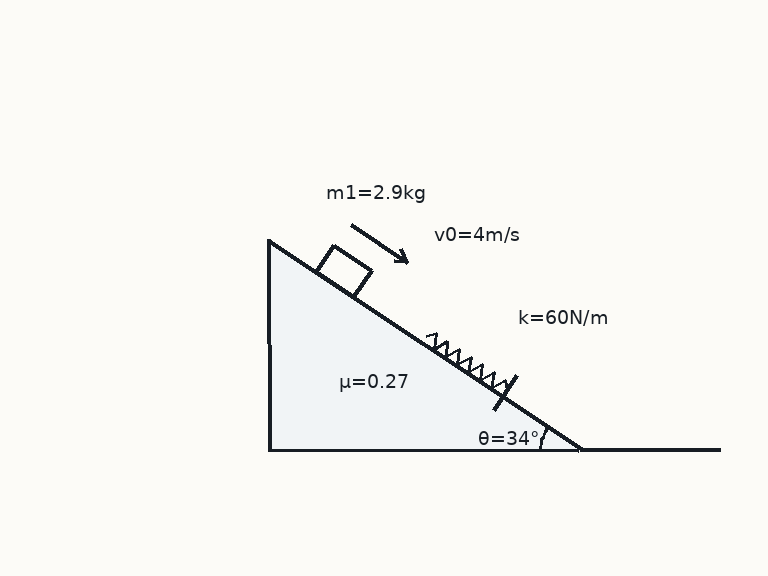block: (314, 243, 373, 299)
ramp: (266, 238, 582, 452)
spring: (424, 331, 509, 392)
